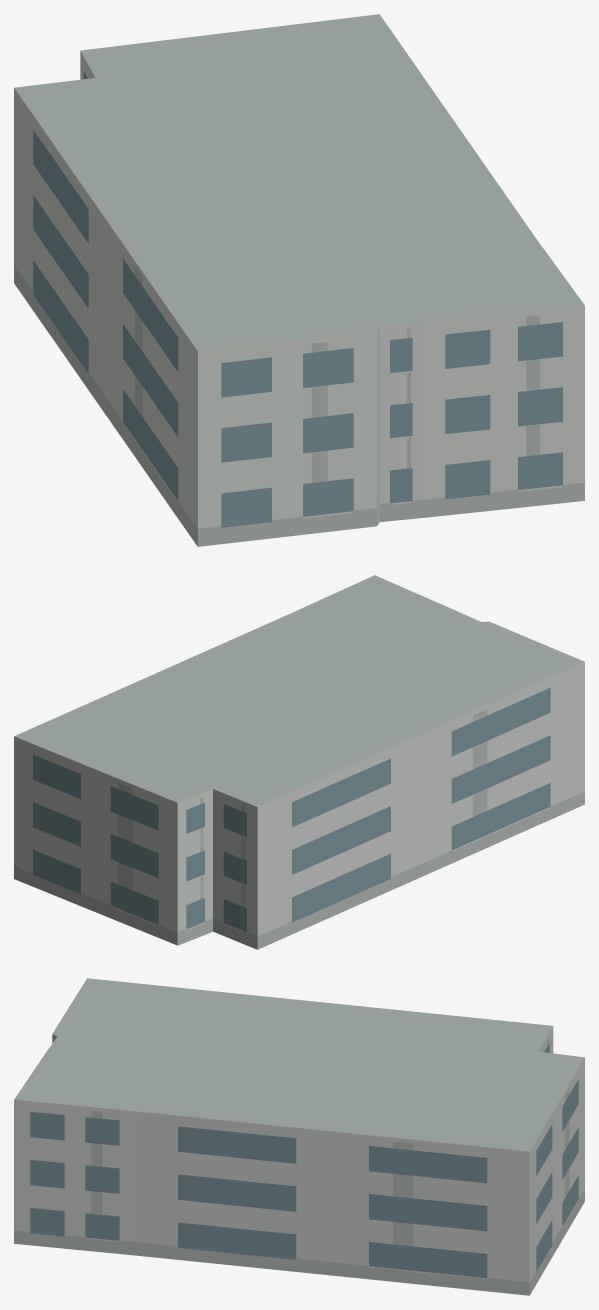
Rendered from survey-upis-32898385.glb.
3 views of the same model, one above another, from view 1: azimuth 30°, elevation 25°; view 2: azimuth 150°, elevation 25°; view 3: azimuth 270°, elevation 25° (orthographic). The views are drawn at different scales.
Parts seen in each view (by area): view 1: survey-upis-32898385.tmp; view 2: survey-upis-32898385.tmp; view 3: survey-upis-32898385.tmp.
Part boxes in pixels (x1=…): survey-upis-32898385.tmp: x1=14, y1=14, x2=584, y2=546; survey-upis-32898385.tmp: x1=14, y1=575, x2=584, y2=949; survey-upis-32898385.tmp: x1=14, y1=978, x2=584, y2=1295.
Size of the model in its own units: 23.61 by 9.15 by 32.85.
